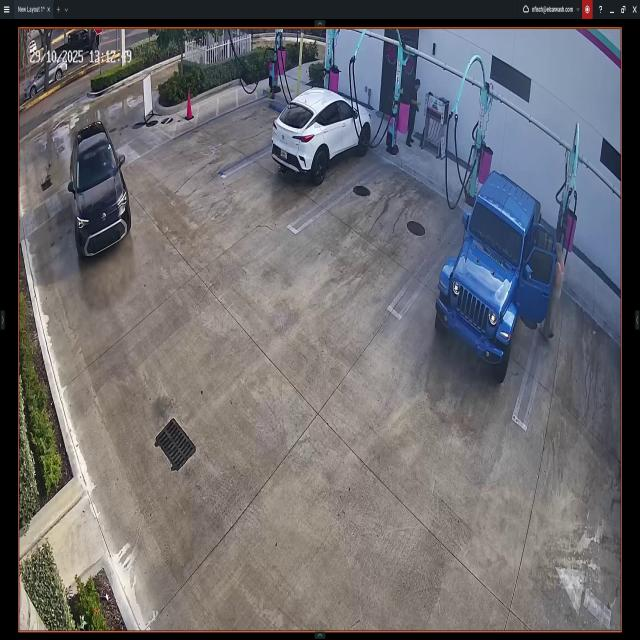Car: (434, 172, 562, 378), (270, 91, 371, 187), (67, 118, 132, 262)
